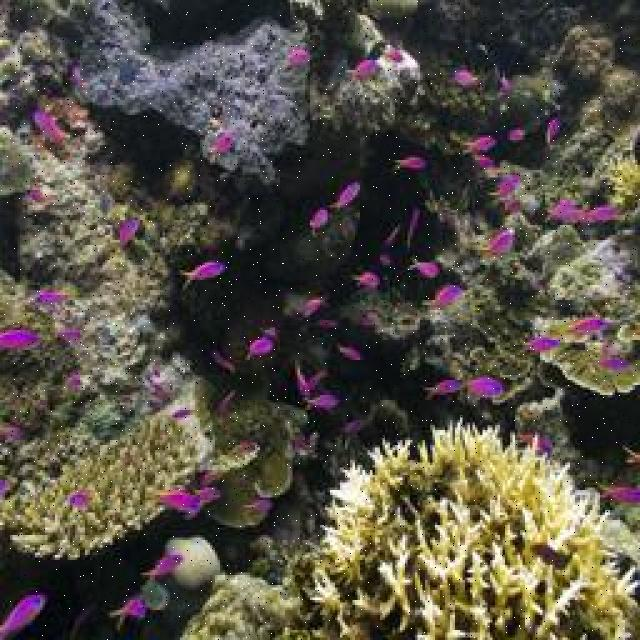fish: (0, 595, 46, 638), (105, 597, 151, 632), (34, 109, 69, 151), (138, 552, 184, 582), (159, 491, 204, 521), (177, 263, 226, 290), (460, 373, 505, 399), (420, 283, 463, 308), (419, 380, 463, 403), (0, 327, 42, 351), (479, 229, 514, 257), (330, 182, 361, 213), (403, 253, 440, 278), (243, 337, 276, 362), (560, 318, 605, 336), (345, 58, 376, 84), (522, 336, 561, 353), (307, 206, 329, 236), (304, 393, 342, 410), (462, 136, 496, 154), (351, 272, 381, 290), (391, 157, 426, 171), (544, 118, 562, 144), (68, 494, 93, 506)
reefs: (296, 411, 638, 638), (0, 414, 205, 560)
